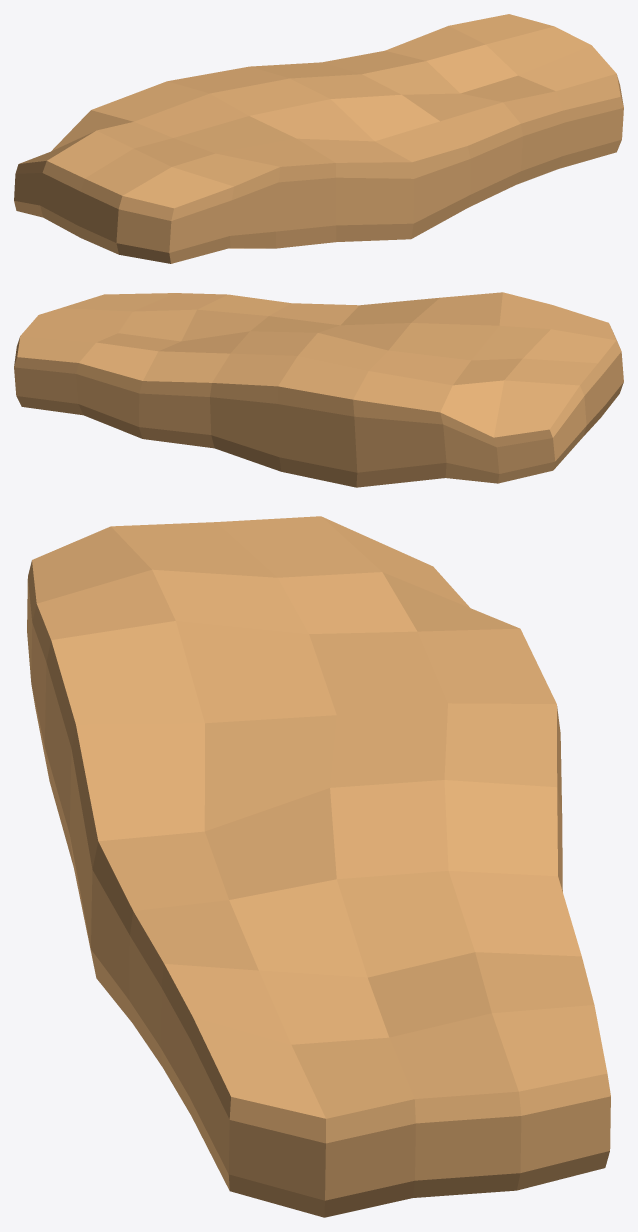
File: flat_rock_3.fbx
The picture shows the model from 3 angles, top to bottom: view 1: azimuth 30°, elevation 25°; view 2: azimuth 150°, elevation 25°; view 3: azimuth 270°, elevation 25°; orthographic projection. The views are drawn at different scales.
Visible parts, largest first — view 1: flat rock 3; view 2: flat rock 3; view 3: flat rock 3.
Boxes of the visible parts, x1,y1,x2,y2 form: flat rock 3: (14,14,623,263); flat rock 3: (14,292,623,487); flat rock 3: (27,516,610,1217).
Bounding box in the file's own units: 6309 × 1269 × 3023.
